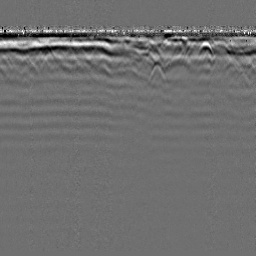cavity: (195, 39, 213, 56)
